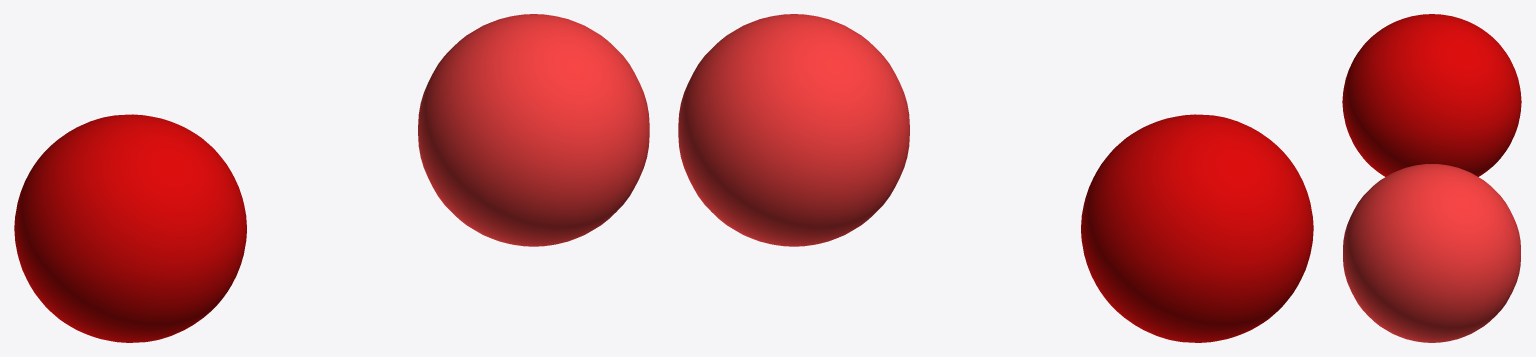
Rendered from paint.gltf.
3 views of the same model, side by side, from view 1: azimuth 30°, elevation 25°; view 2: azimuth 150°, elevation 25°; view 3: azimuth 270°, elevation 25° (orthographic). The views are drawn at different scales.
Visible parts, largest first — view 1: Sphere2, Sphere1; view 2: Sphere2, Sphere1; view 3: Sphere2, Sphere1.
Part boxes in pixels (left/top/right/bottom): Sphere2: left=418, top=14, right=649, bottom=246; Sphere1: left=14, top=114, right=246, bottom=342; Sphere2: left=678, top=14, right=909, bottom=246; Sphere1: left=1081, top=114, right=1313, bottom=342; Sphere2: left=1343, top=164, right=1520, bottom=342; Sphere1: left=1342, top=14, right=1521, bottom=176.
Bounding box in the file's own units: 3 × 1 × 1.
